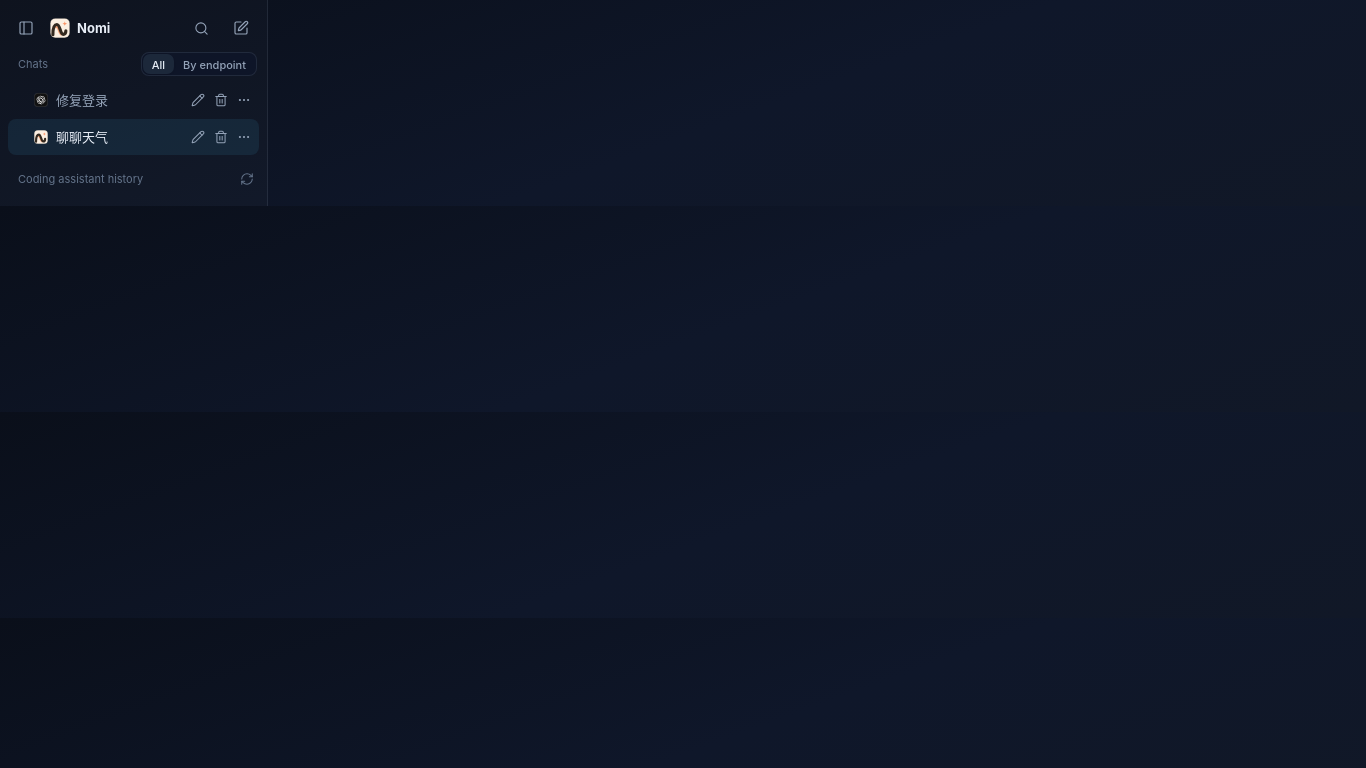
one conversation context menu › Nomi conversation: rename / fork / fork-cross / delete, no close
This screenshot has width=1366, height=768.
Right-click the button with test id "history-item" showing "聊聊天气" at coordinates (134, 137), box x1=8 y1=119 x2=259 y2=155
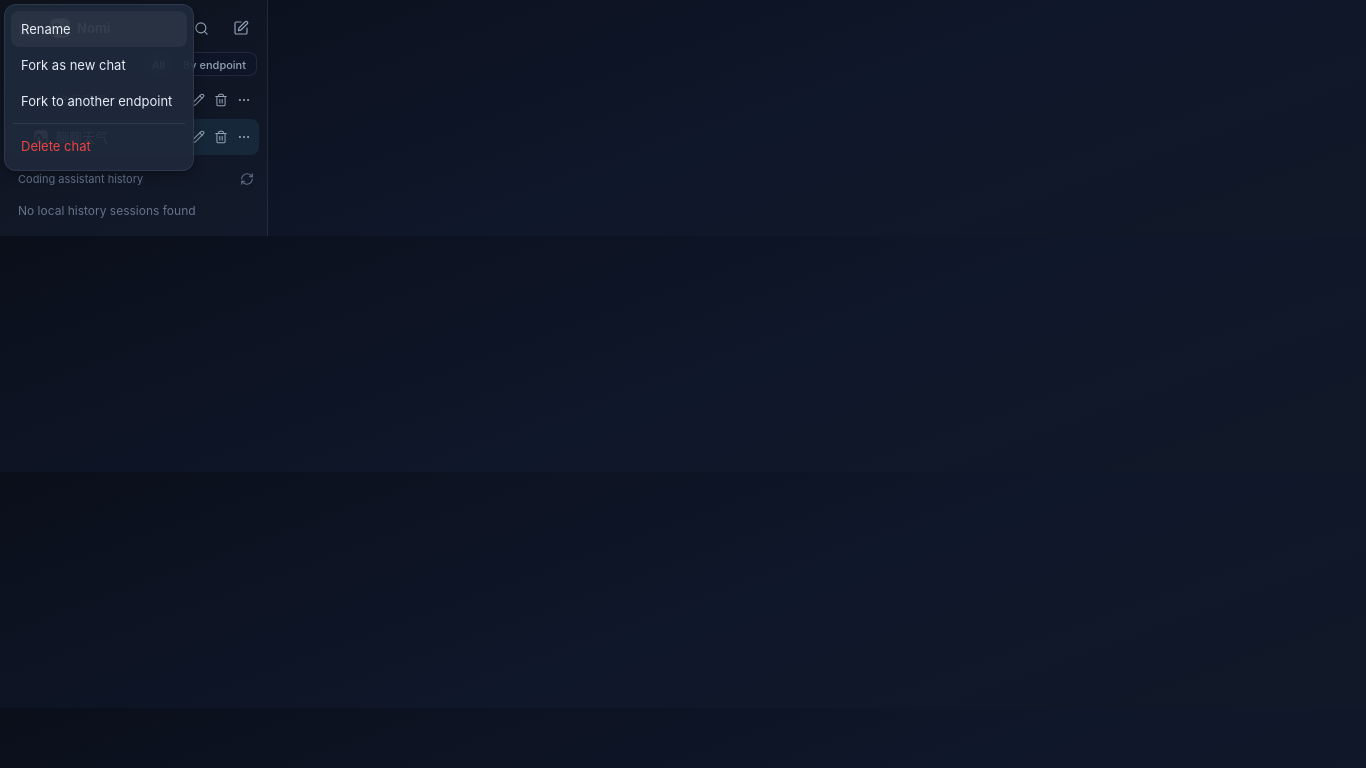
Check: the menu item with test id "conversation-delete" is shown, box x1=11 y1=128 x2=187 y2=164
